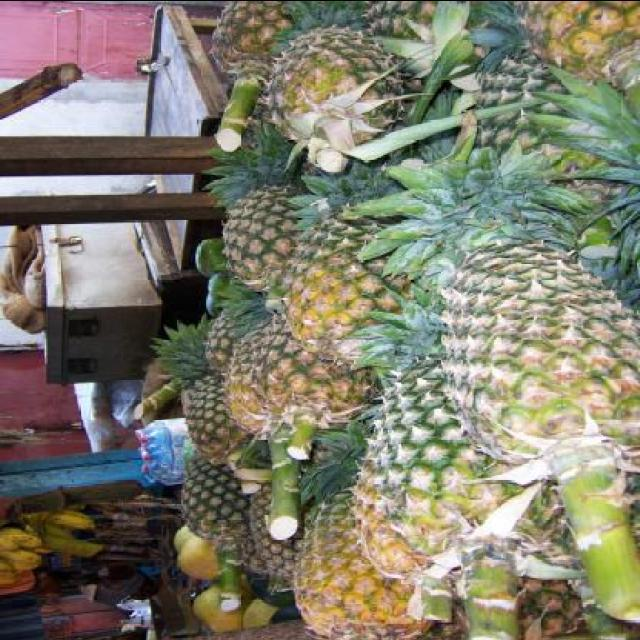Pineapple: (147, 0, 639, 640)
